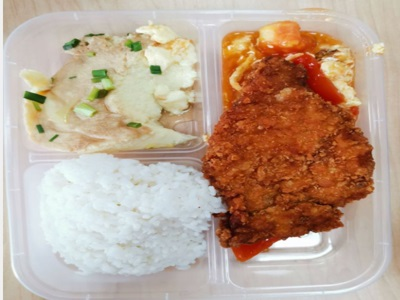jdg: (30, 34, 196, 152)
jp: (227, 79, 350, 240)
rice: (41, 165, 200, 269)
